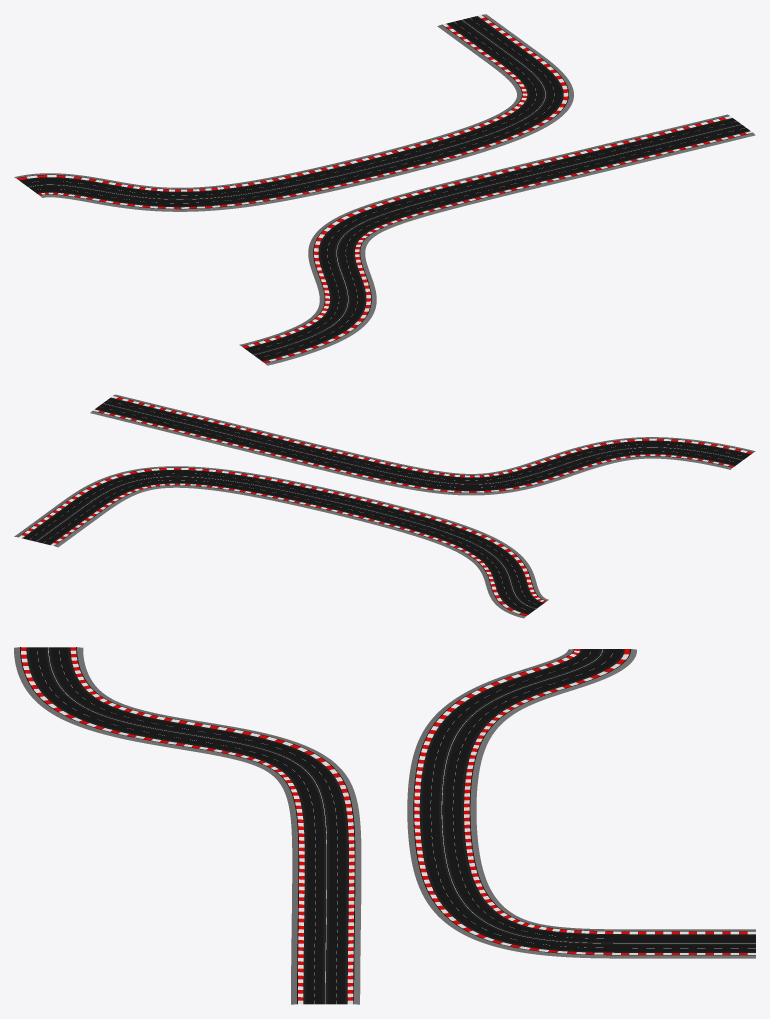
The model's file is S0.3c1-2l2-triway.glb.
3 renders of one model, top to bottom at view 1: azimuth 30°, elevation 25°; view 2: azimuth 150°, elevation 25°; view 3: azimuth 270°, elevation 25°, orthographic. The views are drawn at different scales.
Visible parts, largest first — view 1: Grid.002, Grid; view 2: Grid.002, Grid; view 3: Grid.002, Grid.
Boxes of the visible parts, left/top/right/bottom form: Grid.002: left=14, top=14, right=573, bottom=211; Grid: left=239, top=114, right=755, bottom=365; Grid.002: left=14, top=466, right=548, bottom=618; Grid: left=90, top=394, right=755, bottom=495; Grid.002: left=407, top=649, right=755, bottom=958; Grid: left=14, top=647, right=361, bottom=1004.
Size of the model in its own units: 305 by 0.31 by 268.
